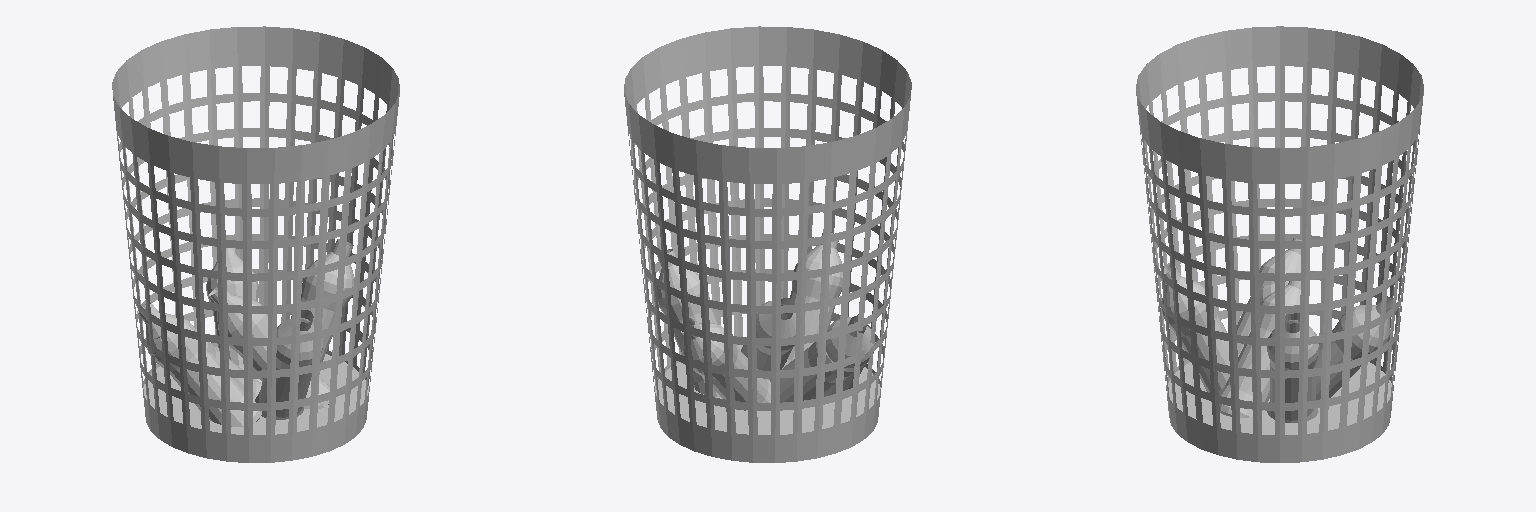
Rendered from DustbinWithCan_000046.obj.
3 views of the same model, side by side, from view 1: azimuth 30°, elevation 25°; view 2: azimuth 150°, elevation 25°; view 3: azimuth 270°, elevation 25° (orthographic).
Parts seen in each view (by area): view 1: Cylinder, Plane.005, Plane.001, Plane.004, Plane.003, Plane.002; view 2: Cylinder, Plane.002, Plane.001, Plane.003, Plane.004, Plane.006, Plane.005; view 3: Cylinder, Plane.001, Plane.004, Plane.003, Plane.002, Plane.005.
Boxes of the visible parts, <box> form: Cylinder: <box>112,26,399,462</box>; Plane.005: <box>137,302,261,426</box>; Plane.001: <box>255,310,322,419</box>; Plane.004: <box>209,287,329,408</box>; Plane.003: <box>291,239,354,362</box>; Plane.002: <box>206,248,261,382</box>; Cylinder: <box>624,26,911,462</box>; Plane.002: <box>681,318,770,410</box>; Plane.001: <box>782,233,842,368</box>; Plane.003: <box>657,249,719,396</box>; Plane.004: <box>741,298,795,370</box>; Plane.006: <box>769,325,871,402</box>; Plane.005: <box>824,315,875,396</box>; Cylinder: <box>1136,26,1423,462</box>; Plane.001: <box>1162,265,1238,393</box>; Plane.004: <box>1219,281,1300,417</box>; Plane.003: <box>1267,313,1319,422</box>; Plane.002: <box>1316,296,1397,399</box>; Plane.005: <box>1237,238,1301,354</box>.
Size of the model in its own units: 2.6 by 3.36 by 2.6.